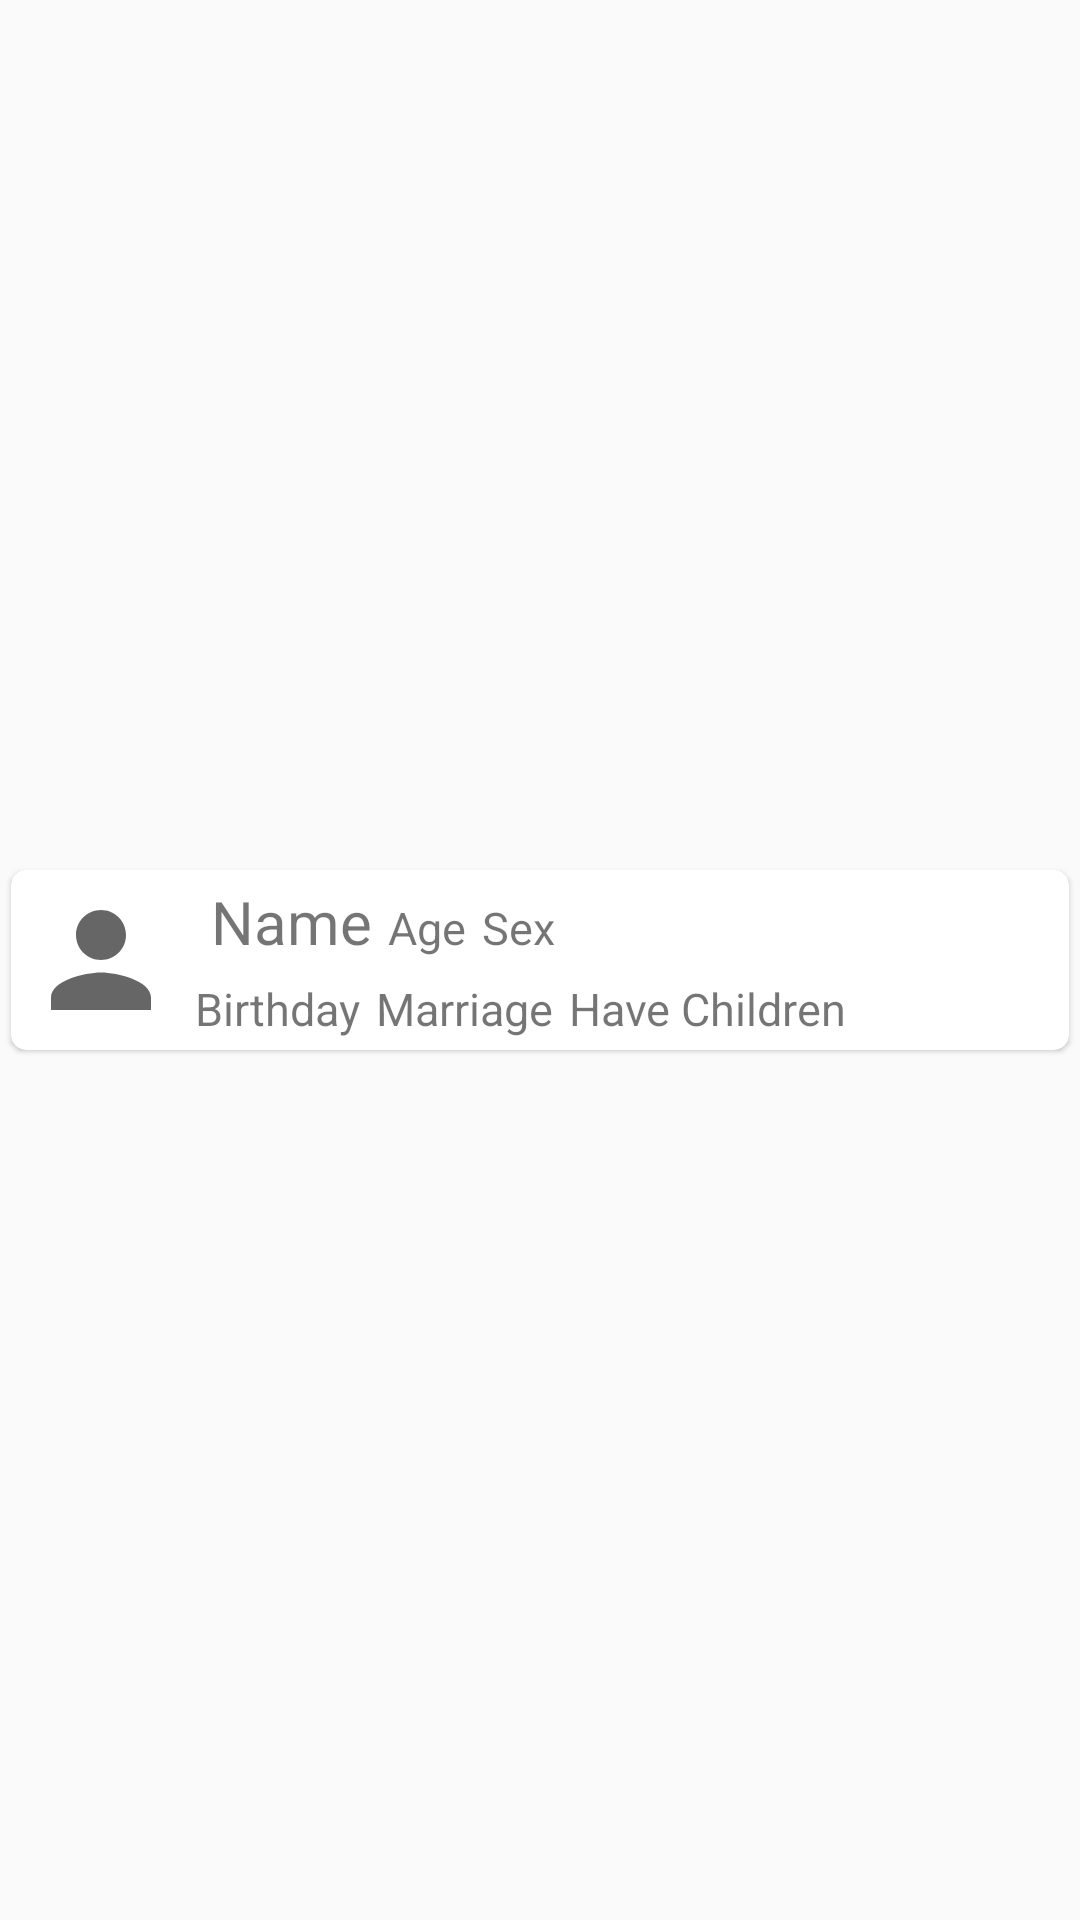

Locate icon controls on the screen. Image size 1080*1920, boxes as (x1, y1, x2, y2).
Person Image: (51, 910, 151, 1010)
